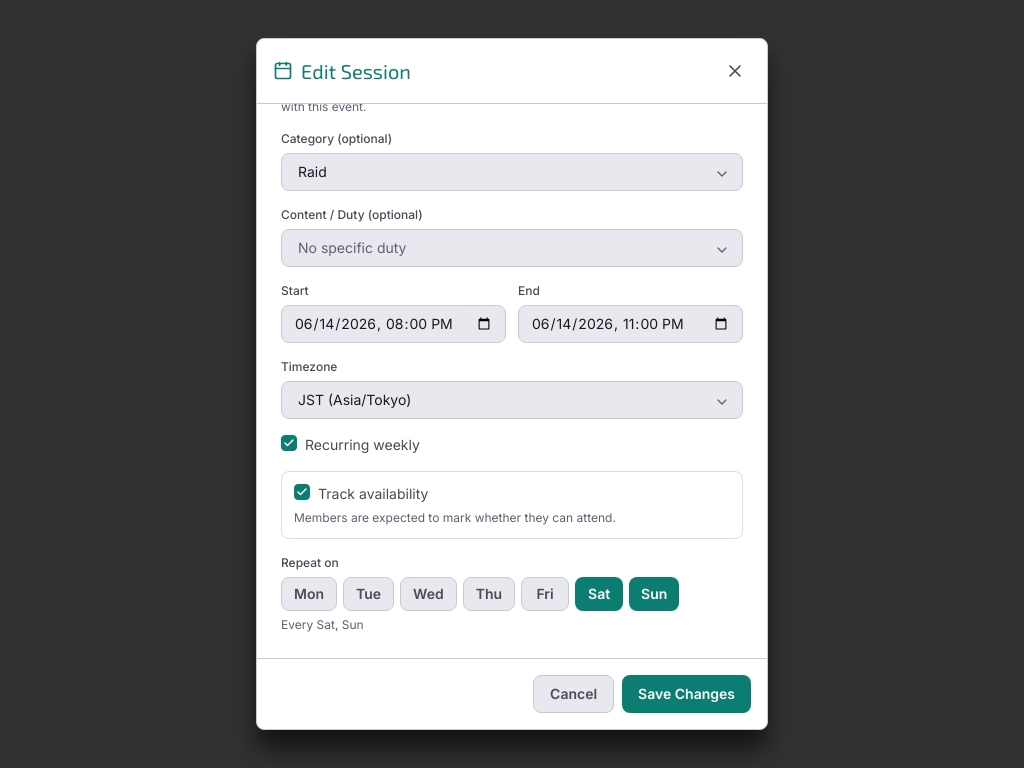
Test case: CreateSessionModal › respects trackAvailability toggle
(page scrolled)
Check: the text "Members are expected to mark whether they can attend." is shown, box [294, 510, 616, 525]
Click the text "Track availability".
click(373, 494)  # box [318, 484, 428, 504]
(page scrolled)
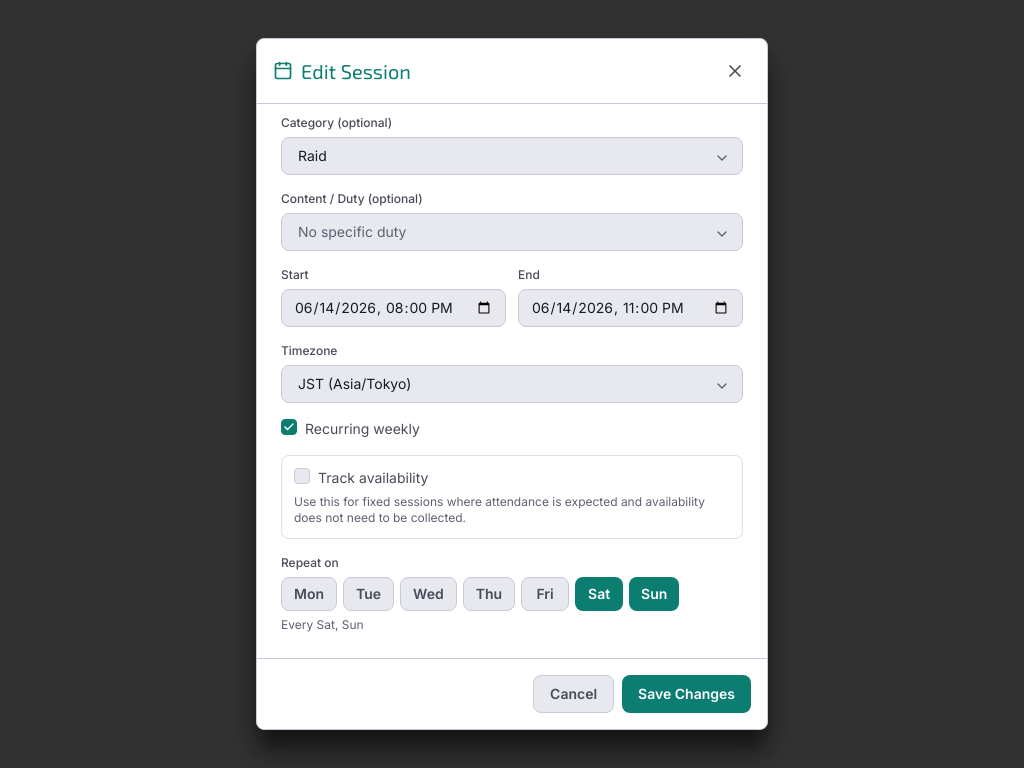
Check: the text "fixed sessions where attendance is expected" is shown, box [294, 494, 705, 525]
